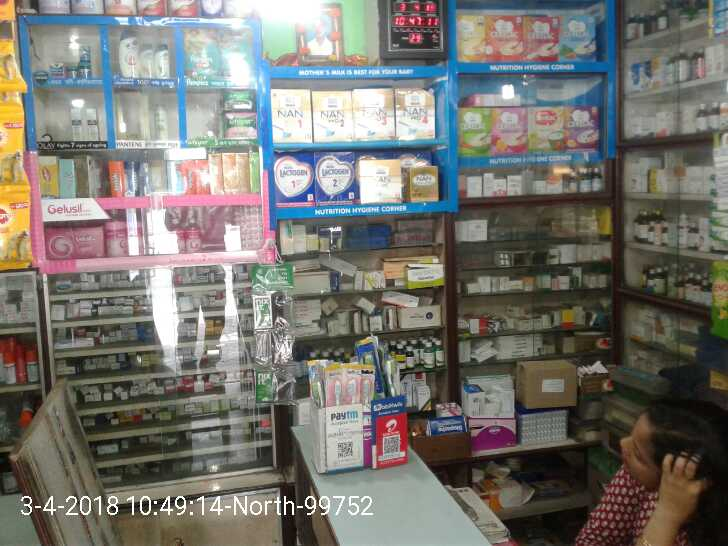vicks: (49, 44, 95, 80)
